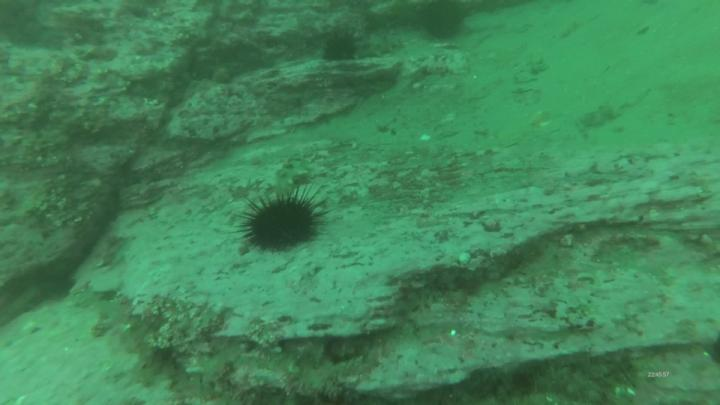echinus: (231, 194, 329, 256), (419, 1, 469, 45), (319, 33, 363, 65)
